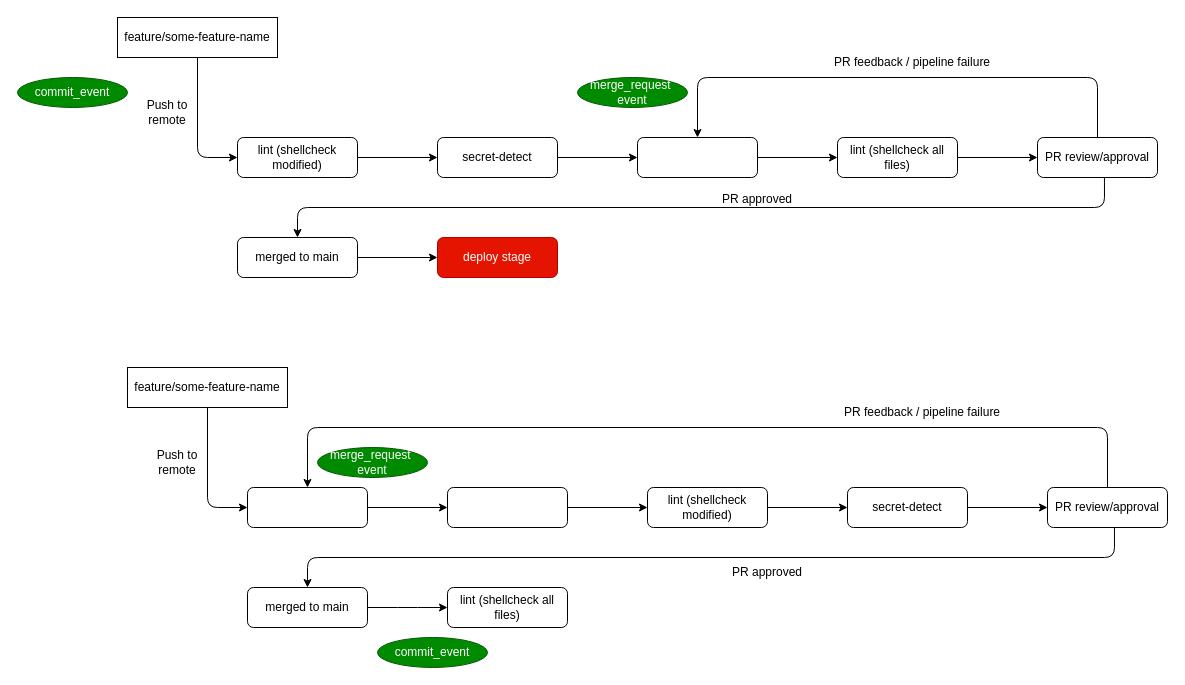
This 1185x685 diagram has some shape labels left out. The centre of each missing label's shape, as x and y in pixels:
"feature merge to main" belongs at (697,157).
"feature PR to main" belongs at (307,507).
"shell format" belongs at (507,507).
